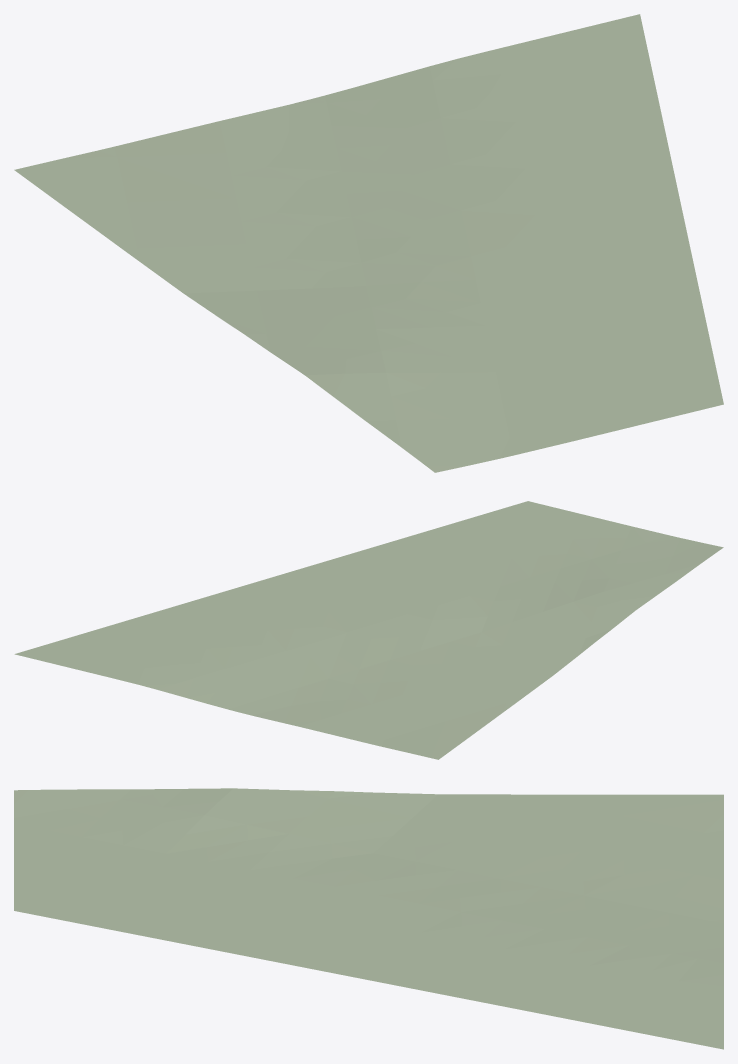
Rendered from SM_MPRR_Terrain_2_-4.fbx.
3 renders of one model, top to bottom at view 1: azimuth 30°, elevation 25°; view 2: azimuth 150°, elevation 25°; view 3: azimuth 270°, elevation 25°, orthographic. The views are drawn at different scales.
Parts seen in each view (by area): view 1: SM_MPRR_Terrain_2_-4; view 2: SM_MPRR_Terrain_2_-4; view 3: SM_MPRR_Terrain_2_-4.
Part boxes in pixels (<box>): SM_MPRR_Terrain_2_-4: <box>14,14,723,472</box>; SM_MPRR_Terrain_2_-4: <box>14,501,723,759</box>; SM_MPRR_Terrain_2_-4: <box>14,788,723,1049</box>.
Bounding box in the file's own units: 12878 × 15000 × 186.
